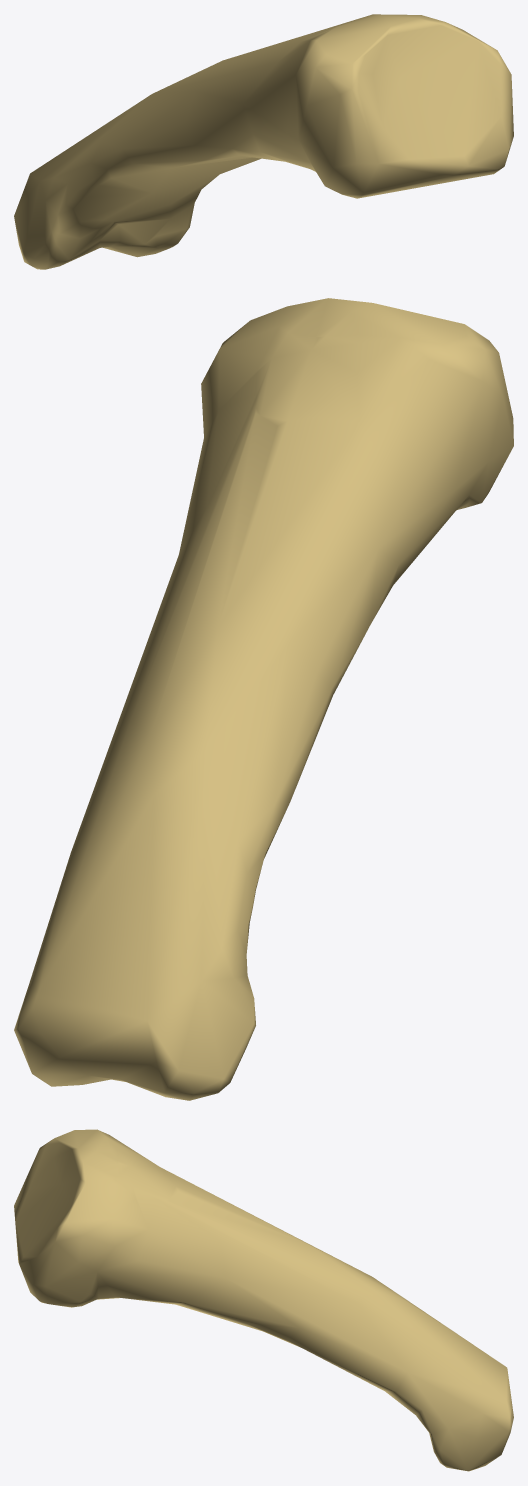
The picture shows the model from 3 angles, top to bottom: view 1: azimuth 30°, elevation 25°; view 2: azimuth 150°, elevation 25°; view 3: azimuth 270°, elevation 25°; orthographic projection. The views are drawn at different scales.
Parts seen in each view (by area): view 1: 右侧第三指近节指骨; view 2: 右侧第三指近节指骨; view 3: 右侧第三指近节指骨.
Boxes of the visible parts, bbox=[...] form: 右侧第三指近节指骨: bbox=[14, 14, 513, 269]; 右侧第三指近节指骨: bbox=[14, 298, 513, 1100]; 右侧第三指近节指骨: bbox=[14, 1129, 513, 1471].
Size of the model in its own units: 0.0279 by 0.0445 by 0.0621.
